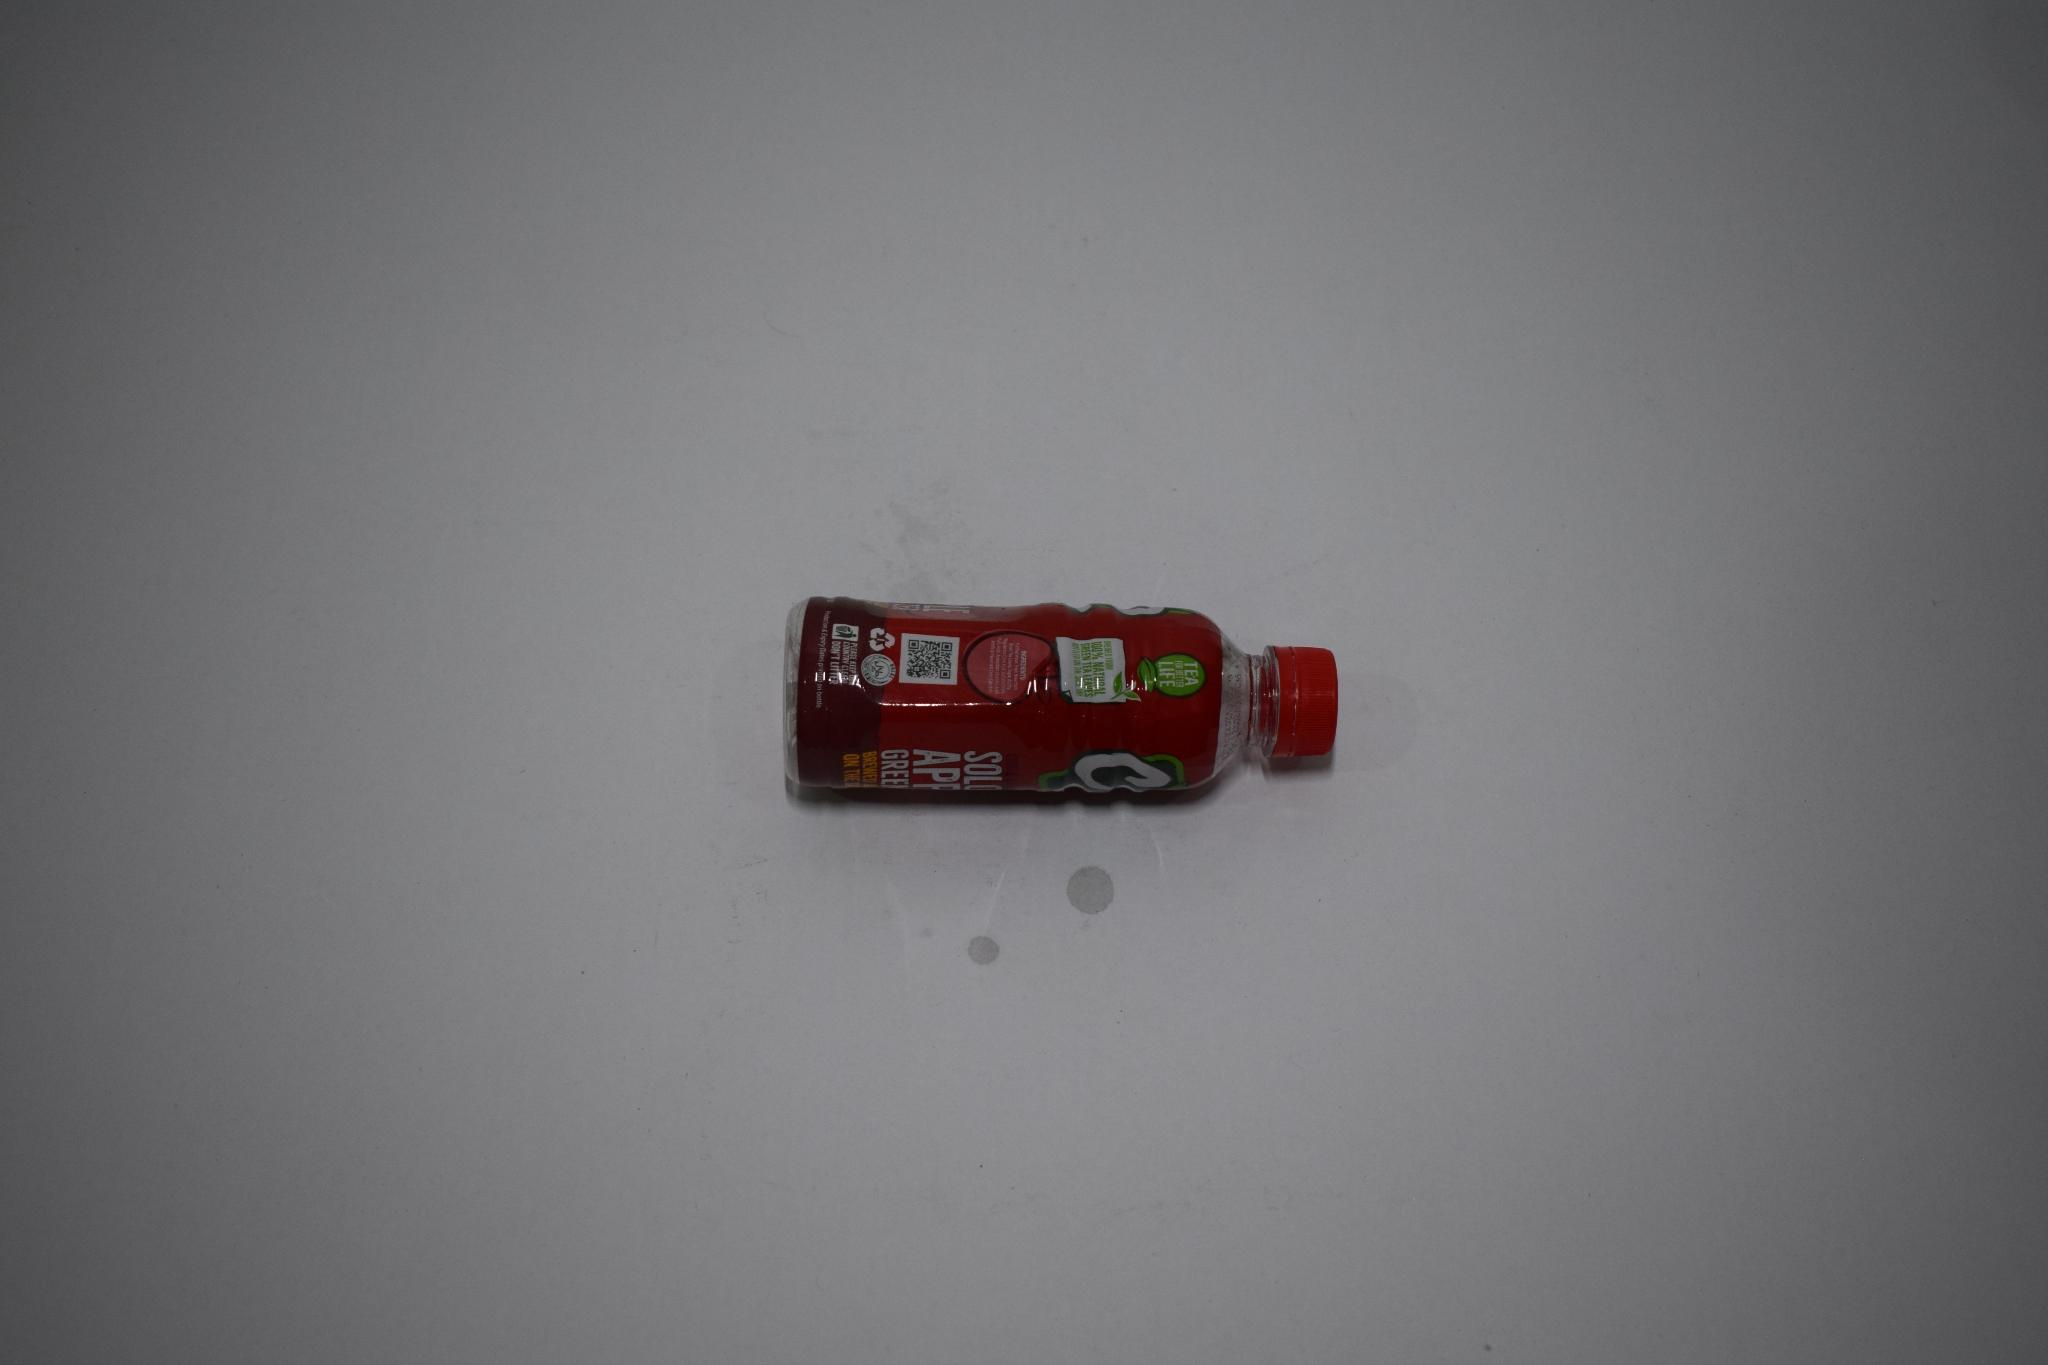bottle: (763, 582, 1366, 823)
